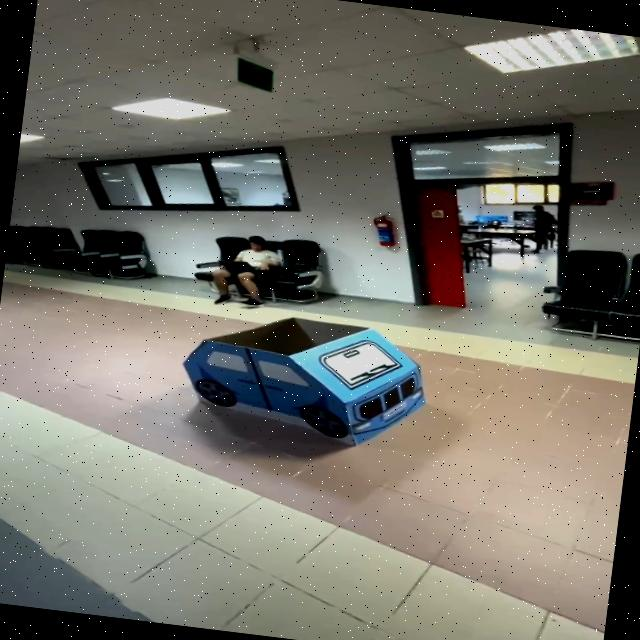blue_car: (158, 292, 450, 478)
